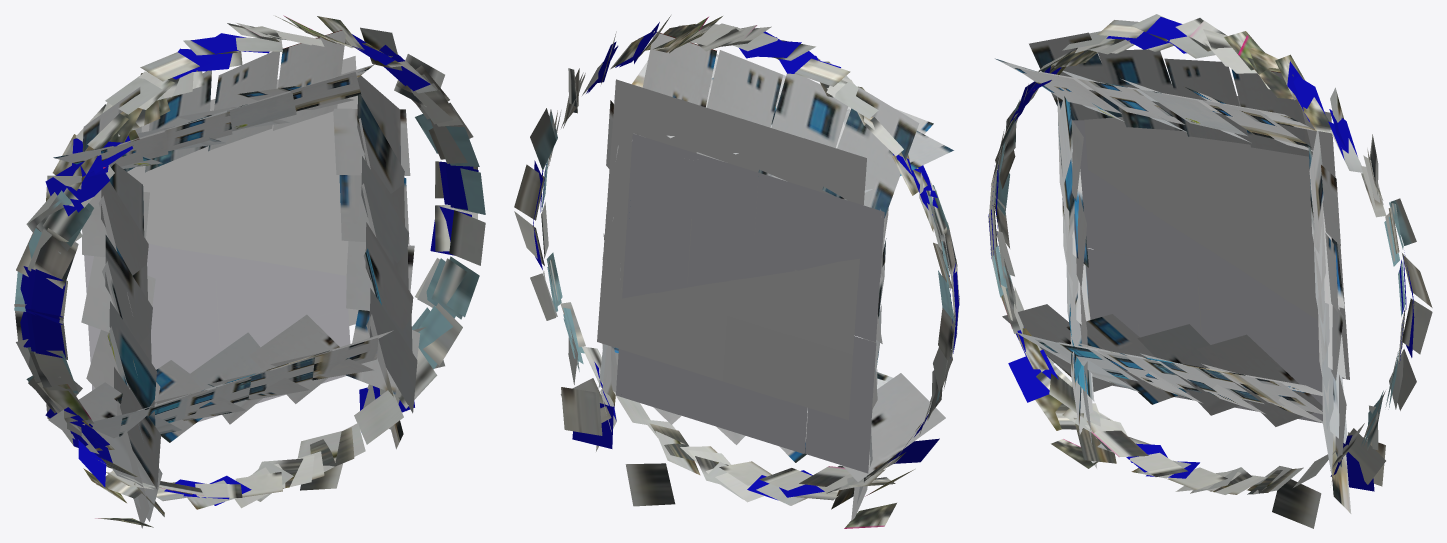
Rendered from demround3.fbx.
3 renders of one model, left to right at view 1: azimuth 30°, elevation 25°; view 2: azimuth 150°, elevation 25°; view 3: azimuth 330°, elevation 25°, orthographic.
Visible parts, largest first — view 1: Cube_003; view 2: Cube_003; view 3: Cube_003.
Part boxes in pixels (bbox=[...]): Cube_003: bbox=[14, 15, 485, 528]; Cube_003: bbox=[514, 16, 959, 528]; Cube_003: bbox=[988, 14, 1432, 528].
Bounding box in the file's own units: 3.56 × 3.73 × 0.5294.
